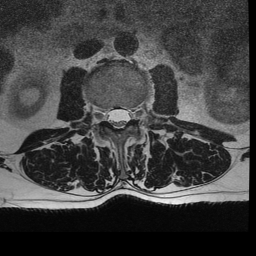CCS_normal: (113, 99, 122, 137)
LFS_normal: (131, 97, 140, 127)
LLS_normal: (122, 100, 131, 129)
RFS_normal: (97, 98, 105, 127)
RLS_normal: (105, 102, 113, 129)
